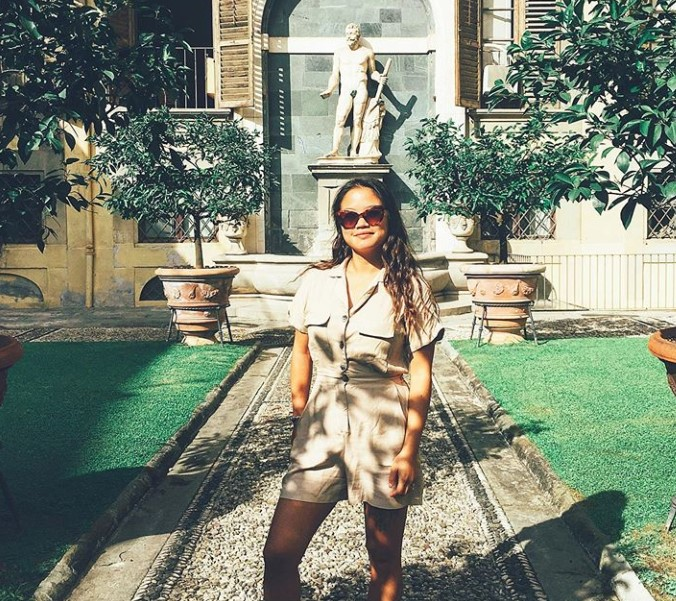face_no_mask: (334, 181, 395, 258)
